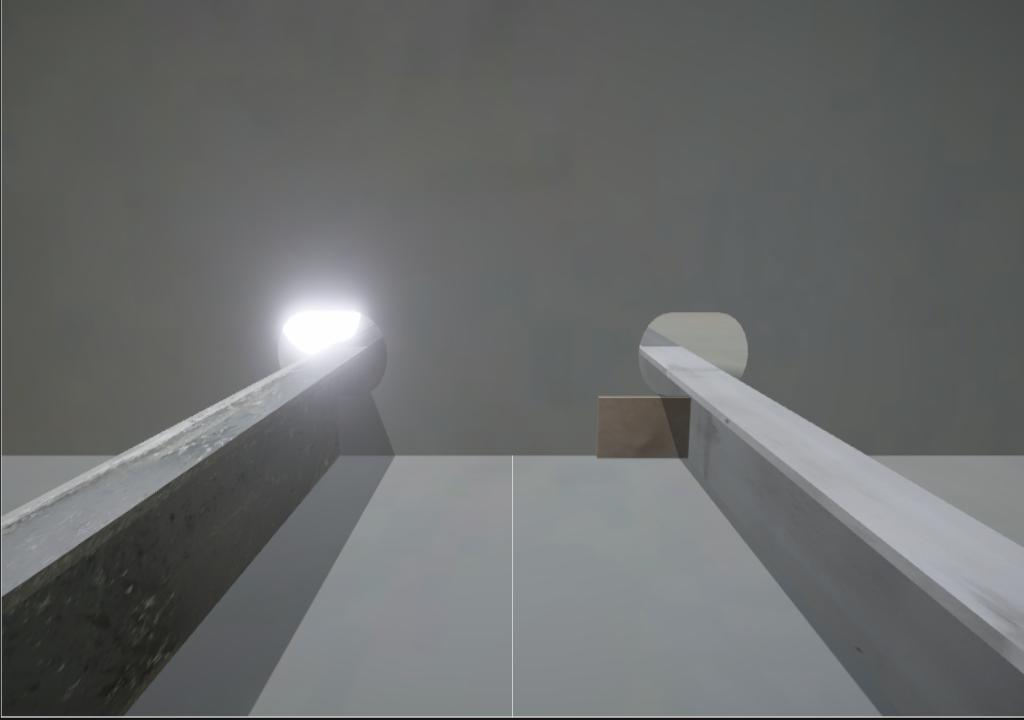fillet_yong_jeop_jang: (334, 451, 598, 460)
longi_yong_jeop_jang: (334, 390, 349, 461)
plate_CP01: (597, 396, 690, 460)
